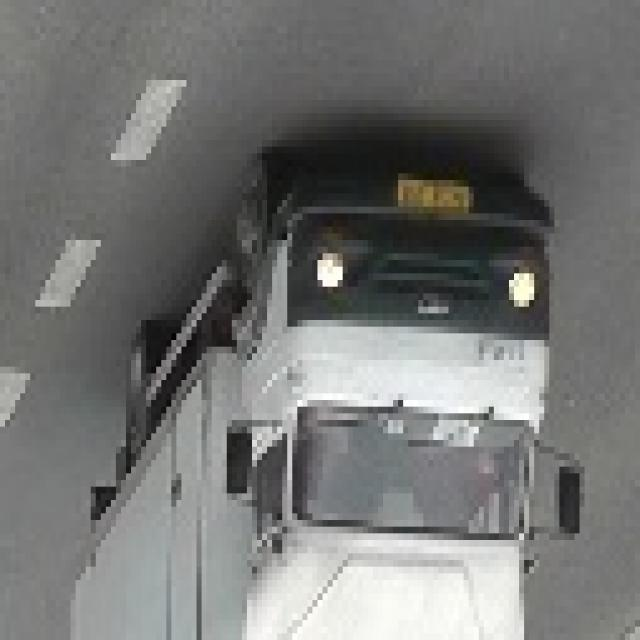truck: (71, 147, 590, 640)
